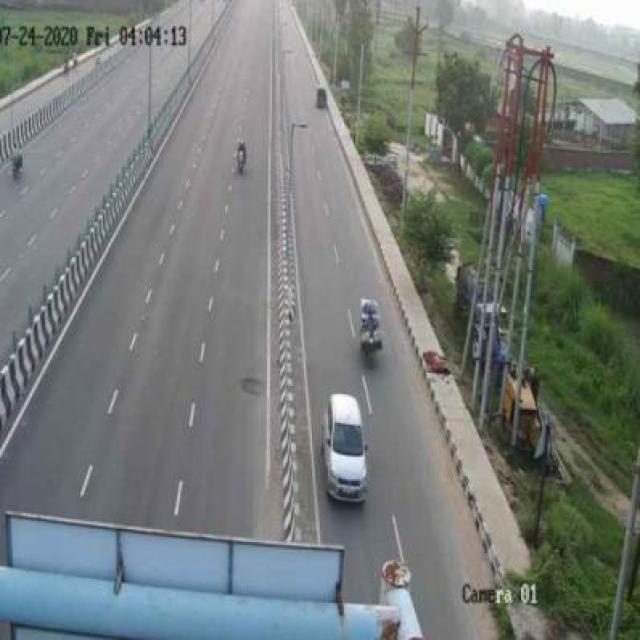car: (317, 383, 373, 516)
